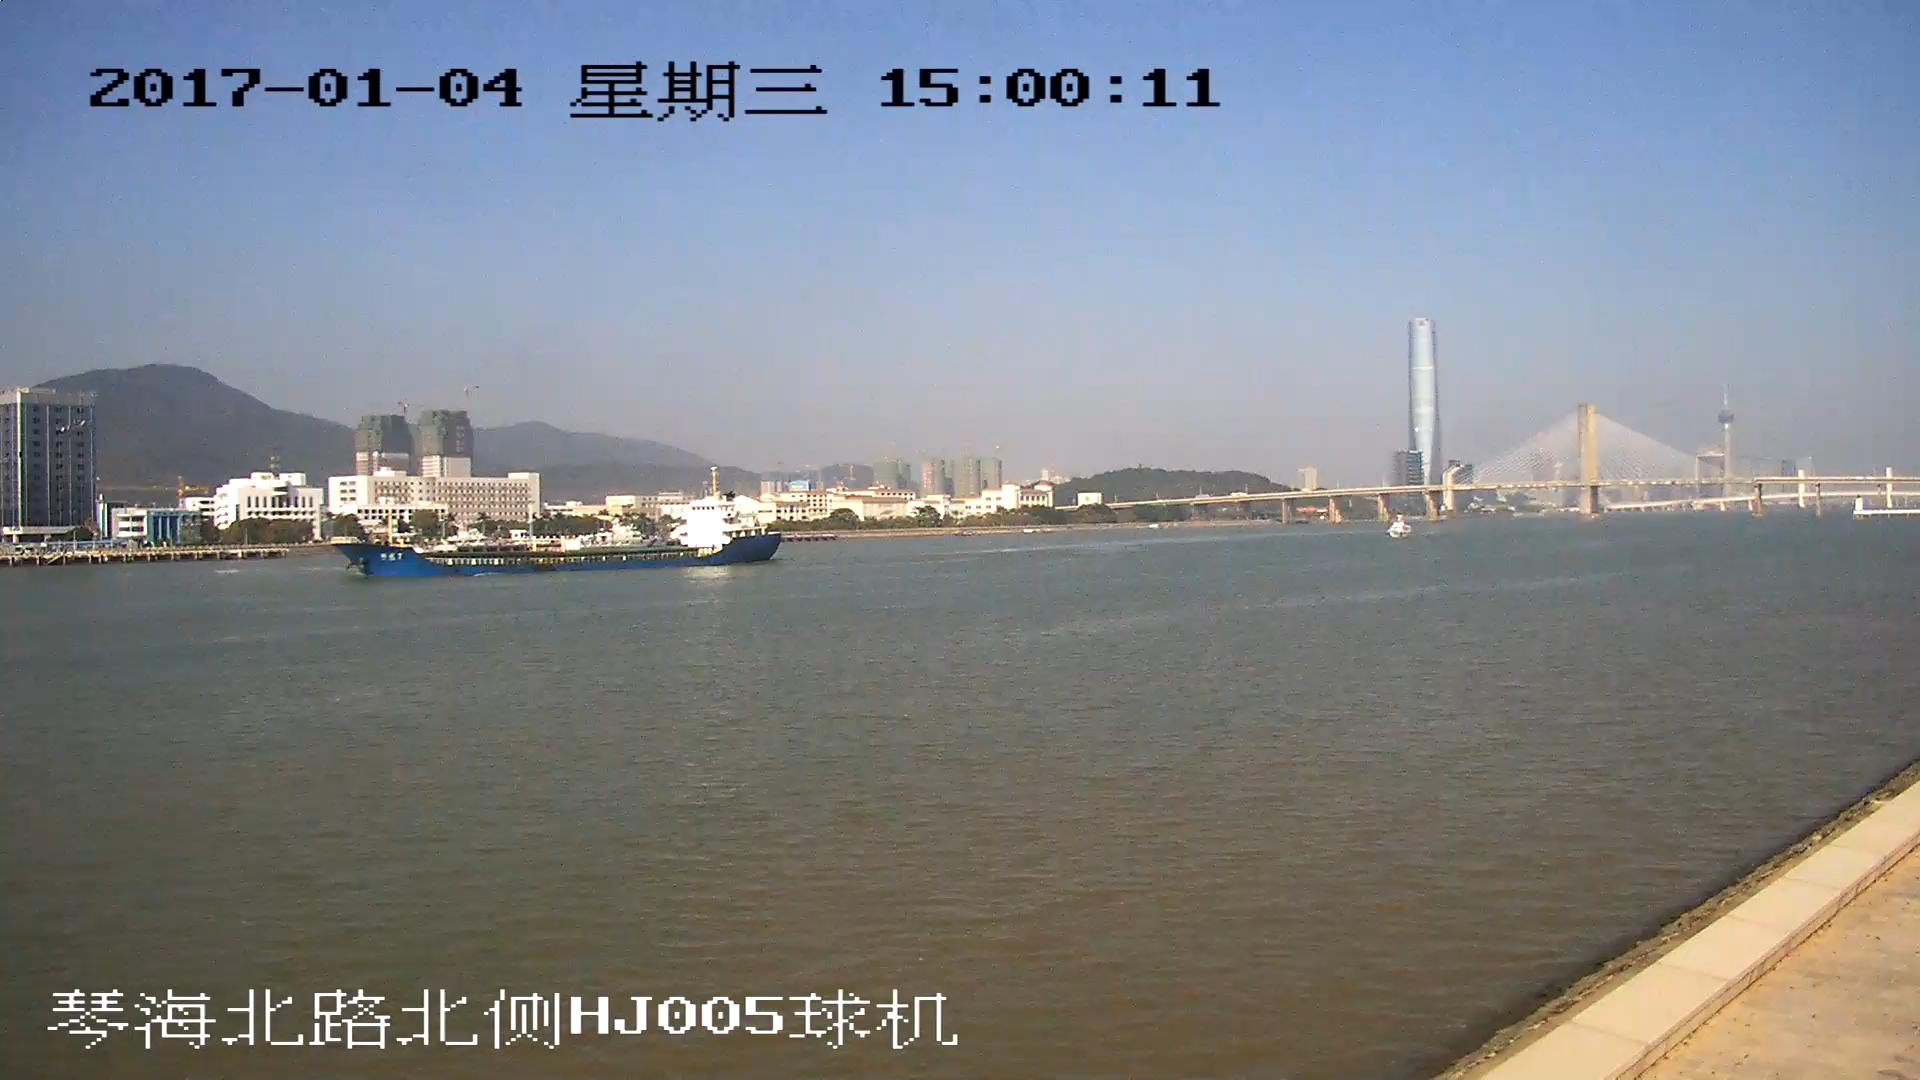general cargo ship: (342, 491, 785, 575)
